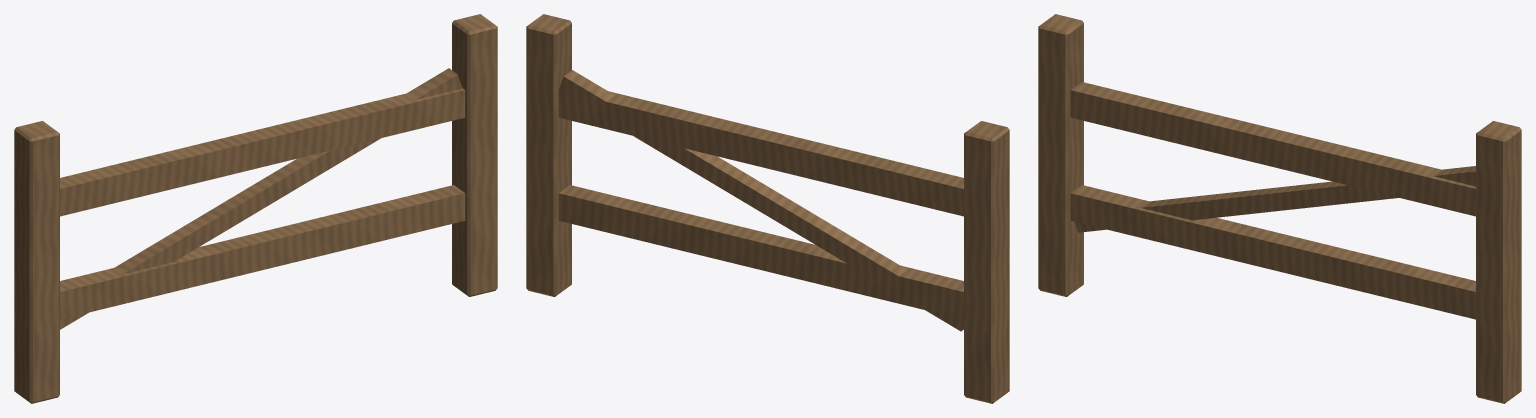
The model's file is fence_2m.glb.
The picture shows the model from 3 angles, left to right: view 1: azimuth 30°, elevation 25°; view 2: azimuth 150°, elevation 25°; view 3: azimuth 330°, elevation 25°; orthographic projection.
Visible parts, largest first — view 1: fence_2m; view 2: fence_2m; view 3: fence_2m.
Part boxes in pixels (left/top/right/bottom): fence_2m: left=14, top=14, right=497, bottom=403; fence_2m: left=526, top=14, right=1009, bottom=403; fence_2m: left=1038, top=14, right=1521, bottom=403.
Bounding box in the file's own units: 2.14 × 1.16 × 0.14.
Materials: 1 (1 with a texture image).
